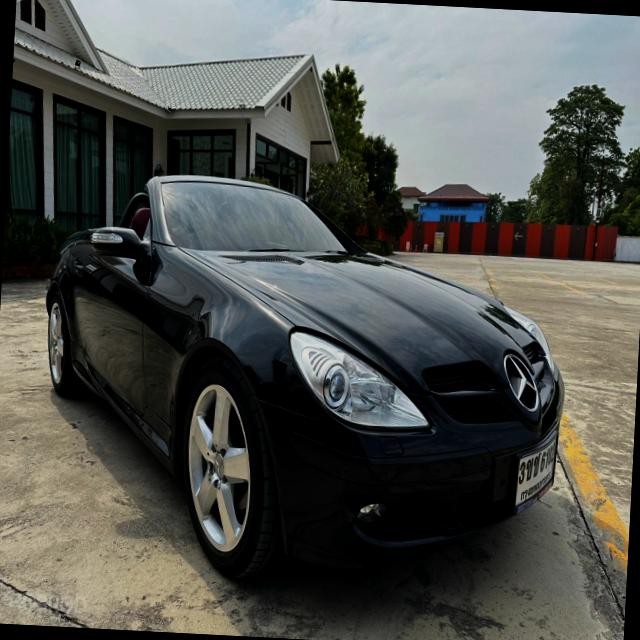license_plate: (506, 418, 573, 523)
